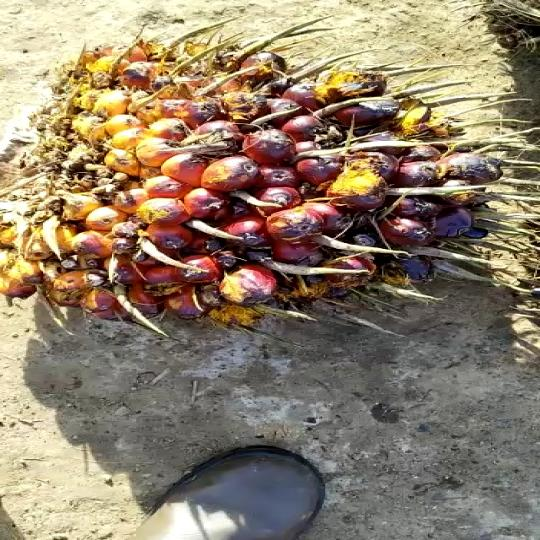masak: (0, 32, 487, 349)
